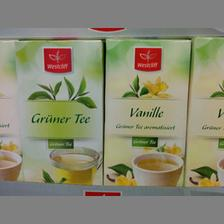Tee: (102, 38, 190, 186), (14, 37, 102, 185)
